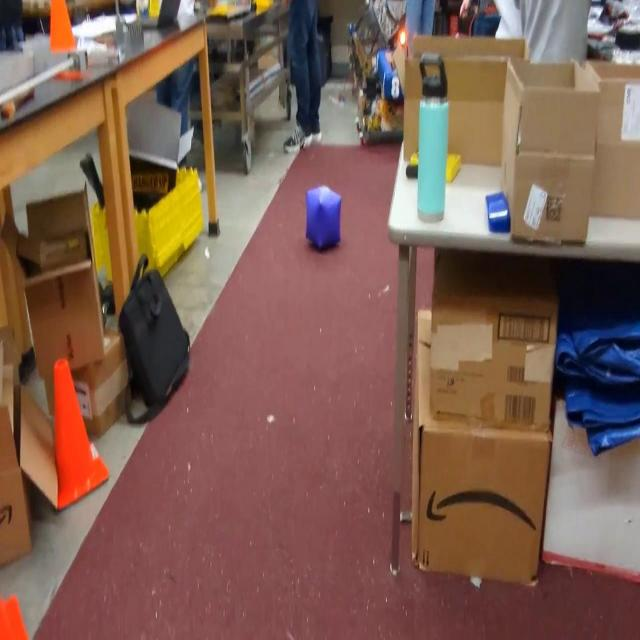frc_cube: (304, 184, 342, 252)
